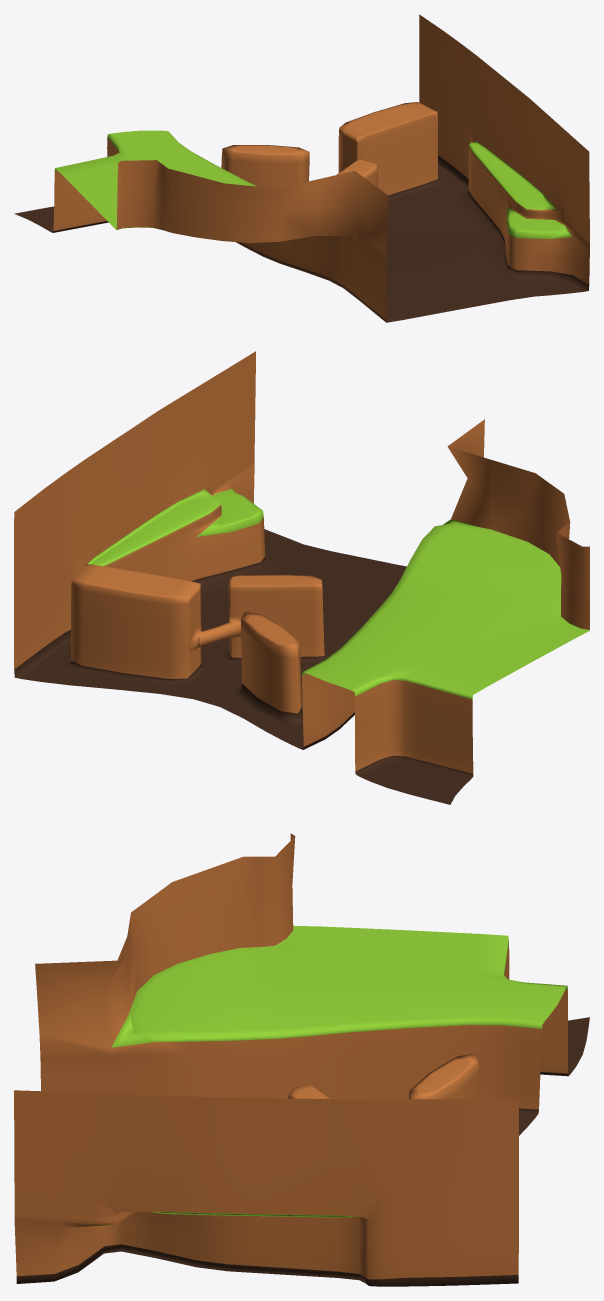
3 renders of one model, top to bottom at view 1: azimuth 30°, elevation 25°; view 2: azimuth 150°, elevation 25°; view 3: azimuth 270°, elevation 25°, orthographic. The views are drawn at different scales.
Parts seen in each view (by area): view 1: pCube8; view 2: pCube8; view 3: pCube8.
Part boxes in pixels (x1,y1,x2,y2): pCube8: [14, 14, 589, 322]; pCube8: [14, 351, 589, 804]; pCube8: [14, 833, 589, 1286].
Bounding box in the file's own units: 373 × 135 × 349.
1 material, 1 textured.
